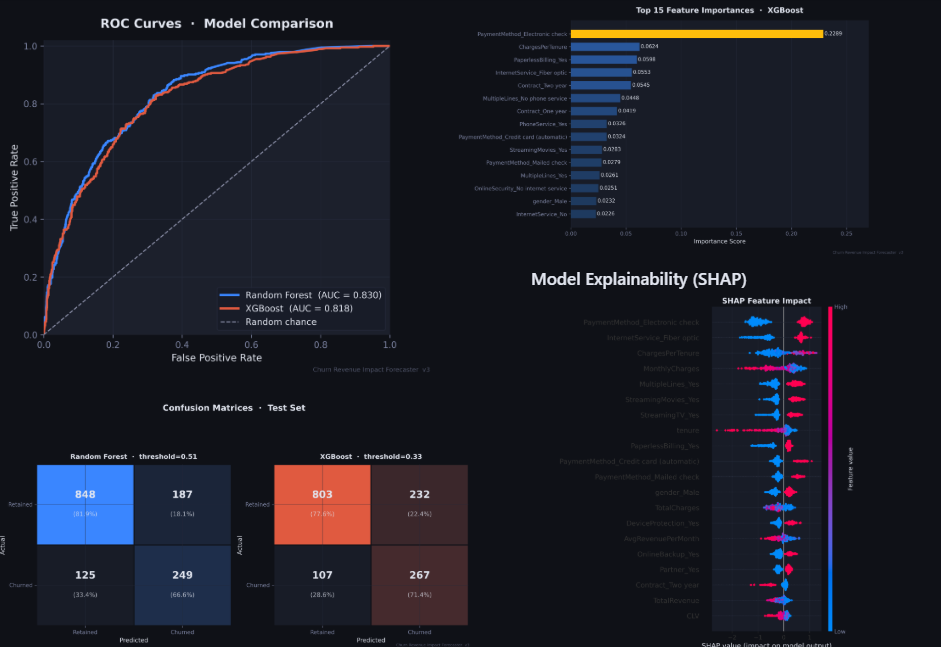

The dashboard page shown, as its layout file describes it:
{"tool":"powerbi","page":{"name":"Model Insights","canvas":[1280,720],"ordinal":1},"visuals":[{"type":"image","box":[0,16.5,491.3,403.4],"z":0},{"type":"image","box":[0,440.5,524.2,279.9],"z":1},{"type":"image","title":"Model Explainability (SHAP)","box":[587.3,296.4,385.6,424],"z":2},{"type":"image","box":[481.6,6.9,540.7,279.9],"z":3}]}

Visuals, with their boxes on the page's 1280x720 design canvas (x1, y1, x2, y2). These are canvas units, not pixel positions in the 941x647 screenshot, which may show the page scaled, cropped or inside an application window:
image: <bbox>0, 16, 491, 420</bbox>
image: <bbox>0, 440, 524, 720</bbox>
"Model Explainability (SHAP)" image: <bbox>587, 296, 973, 720</bbox>
image: <bbox>482, 7, 1022, 287</bbox>
